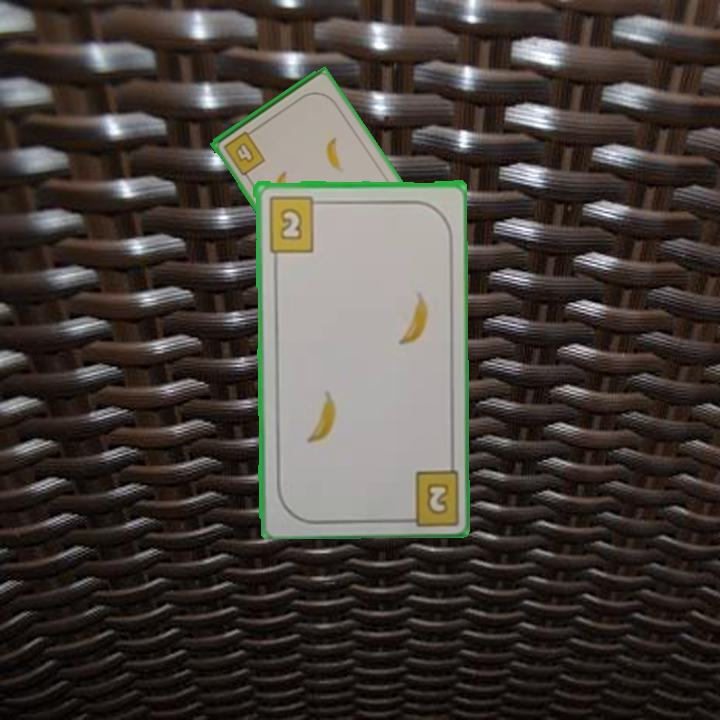2b: (265, 192, 326, 254), (422, 478, 452, 517)
4b: (220, 125, 269, 178)
